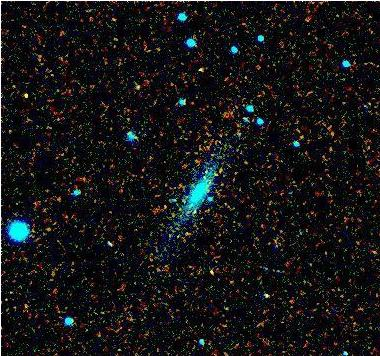star: (212, 288, 242, 318)
